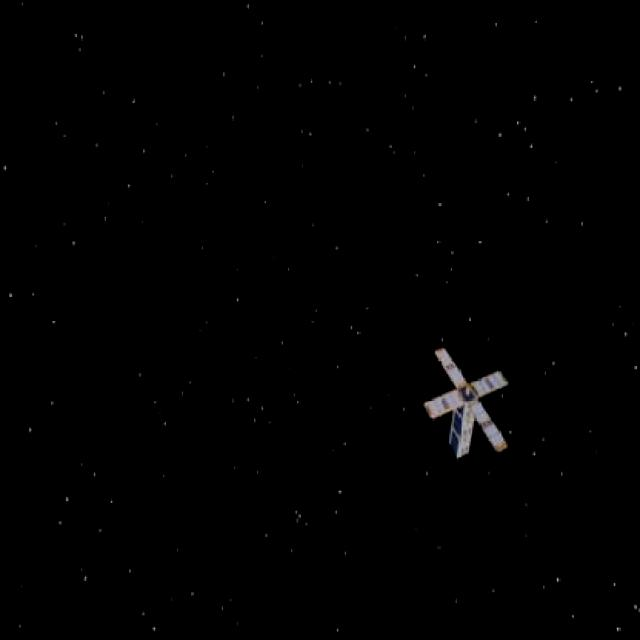medium_debris: (420, 346, 518, 464)
